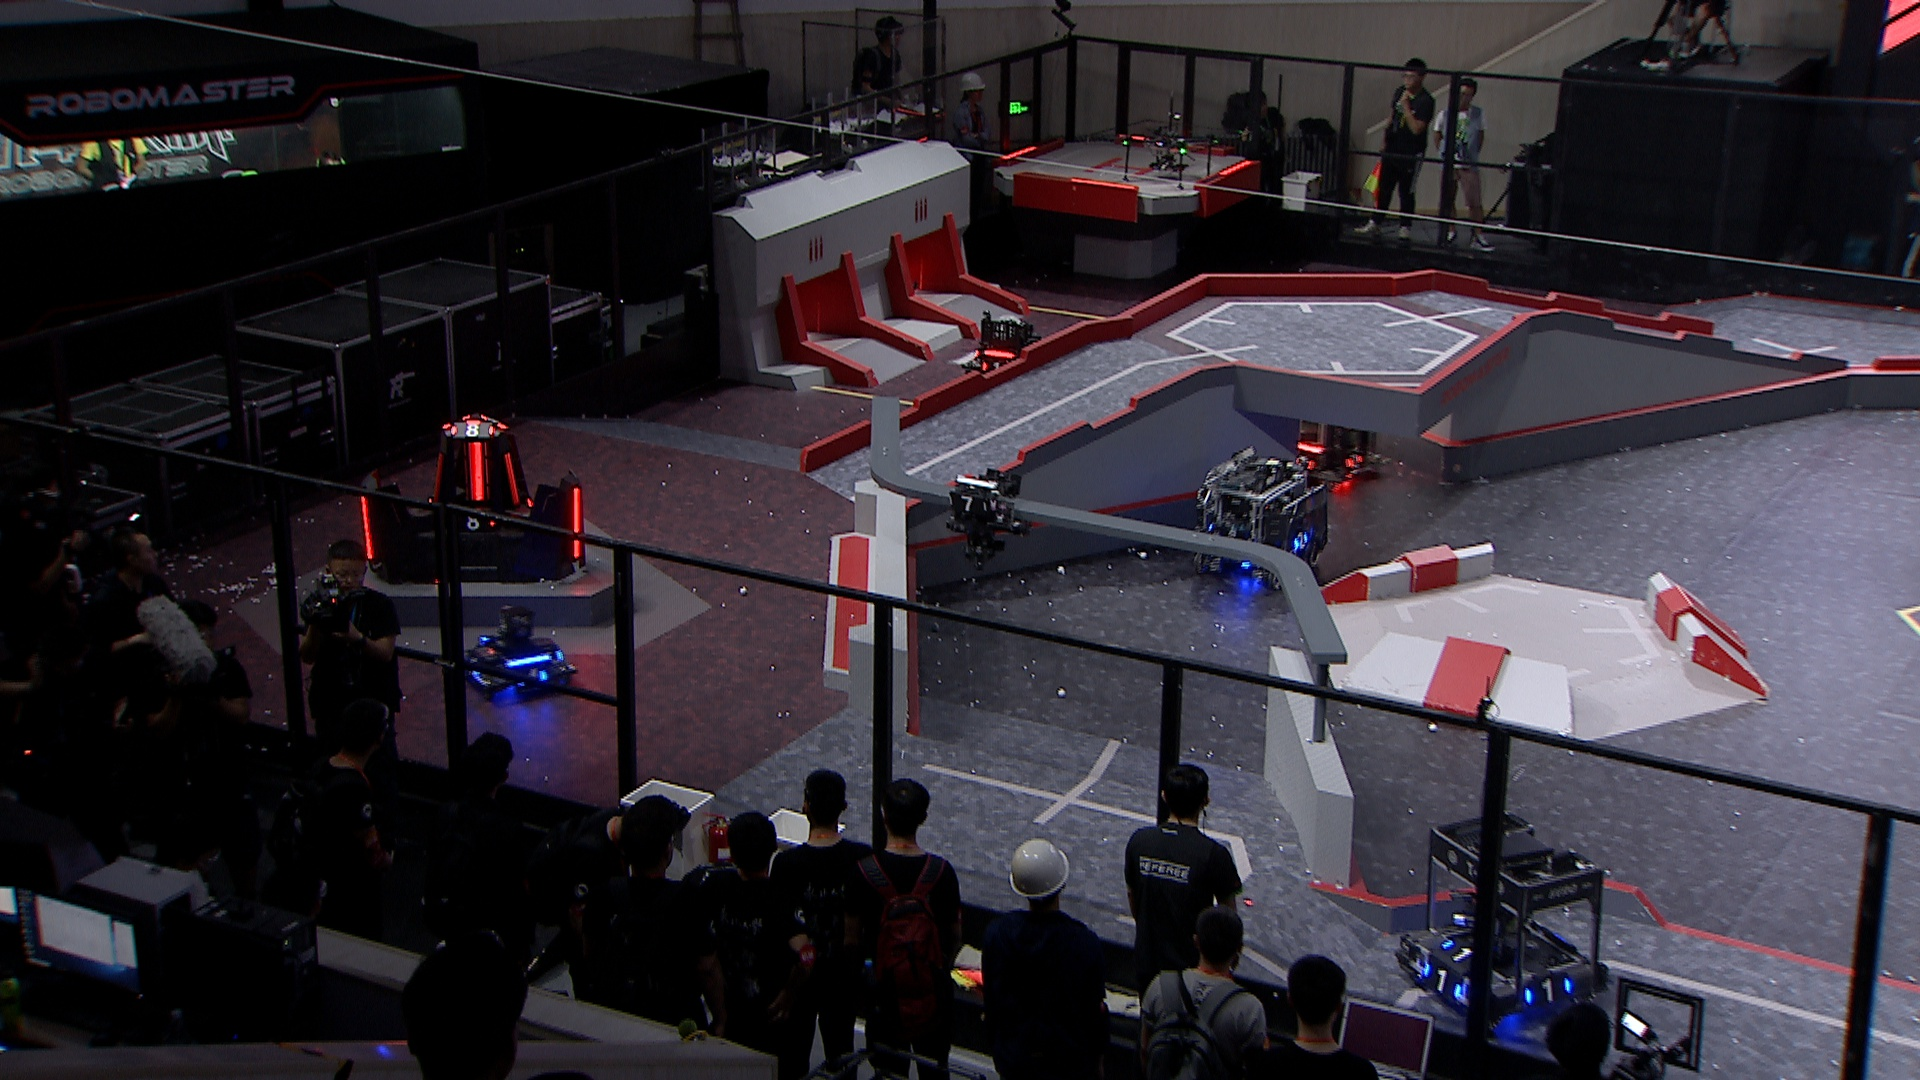armor: (1419, 963, 1462, 998), (1522, 977, 1575, 1006), (357, 491, 377, 564), (570, 484, 588, 562), (465, 440, 487, 505), (502, 450, 522, 508), (1439, 938, 1474, 965), (429, 451, 446, 506), (944, 495, 989, 516), (448, 422, 495, 440), (462, 516, 496, 533), (1342, 451, 1365, 471), (981, 357, 1005, 375), (1292, 531, 1311, 553)
base: (356, 414, 589, 589)
car: (1389, 808, 1607, 1033), (1196, 446, 1335, 591), (1261, 368, 1382, 487), (460, 604, 580, 698), (957, 309, 1051, 386)
watcher: (942, 463, 1030, 568)
